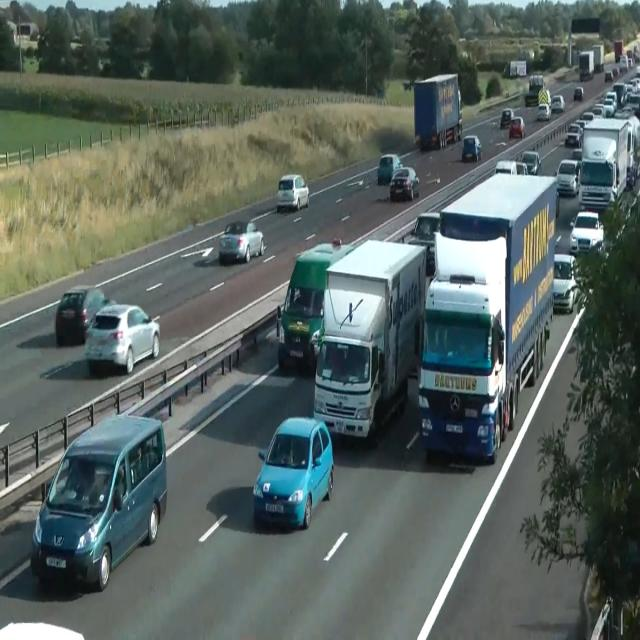bus: (252, 415, 334, 530), (84, 302, 160, 374), (55, 285, 111, 346), (407, 210, 441, 274), (218, 220, 266, 264), (552, 252, 580, 314), (276, 174, 310, 212), (390, 166, 420, 201), (377, 153, 403, 185), (462, 135, 482, 162), (494, 160, 528, 175), (521, 150, 541, 174), (565, 122, 581, 148), (509, 115, 525, 138), (550, 93, 565, 112), (500, 108, 514, 128), (537, 103, 551, 121), (605, 91, 617, 109), (574, 86, 584, 100), (572, 148, 582, 162), (581, 111, 594, 121), (555, 188, 559, 217)
car: (416, 274, 506, 464)
jeep: (30, 412, 168, 591), (569, 209, 604, 256), (554, 158, 580, 196)
minibus: (417, 171, 559, 464), (312, 238, 427, 443), (276, 238, 355, 372), (578, 114, 640, 210), (413, 73, 462, 150), (525, 74, 545, 106), (578, 51, 594, 81), (502, 60, 526, 78), (592, 44, 604, 72), (529, 73, 545, 91), (614, 39, 623, 62)
